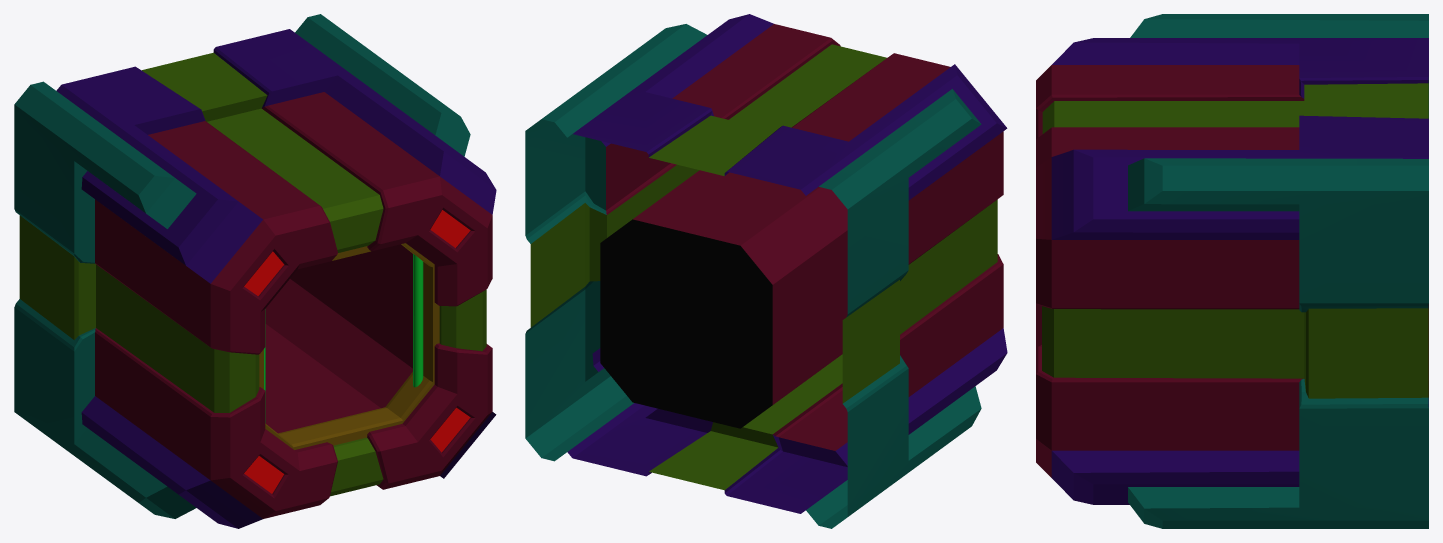
Rendered from OBJ_Spawn_drone.fbx.
The picture shows the model from 3 angles, left to right: view 1: azimuth 30°, elevation 25°; view 2: azimuth 150°, elevation 25°; view 3: azimuth 270°, elevation 25°; orthographic projection. The views are drawn at different scales.
Parts seen in each view (by area): view 1: A_Spawn_Drone; view 2: A_Spawn_Drone; view 3: A_Spawn_Drone.
Part boxes in pixels (x1=…): A_Spawn_Drone: x1=14, y1=14, x2=496, y2=528; A_Spawn_Drone: x1=525, y1=14, x2=1007, y2=528; A_Spawn_Drone: x1=1036, y1=14, x2=1428, y2=528.
Bounding box in the file's own units: 424 × 426 × 415.
